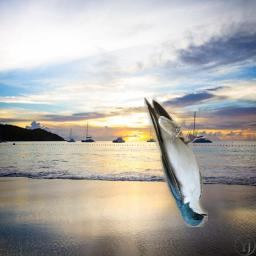Swallow: (144, 97, 208, 227)
